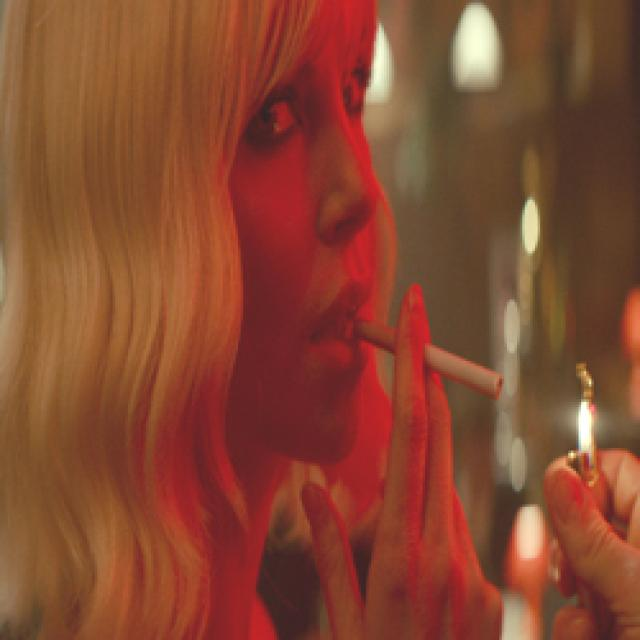Smooking: (336, 306, 512, 403)
